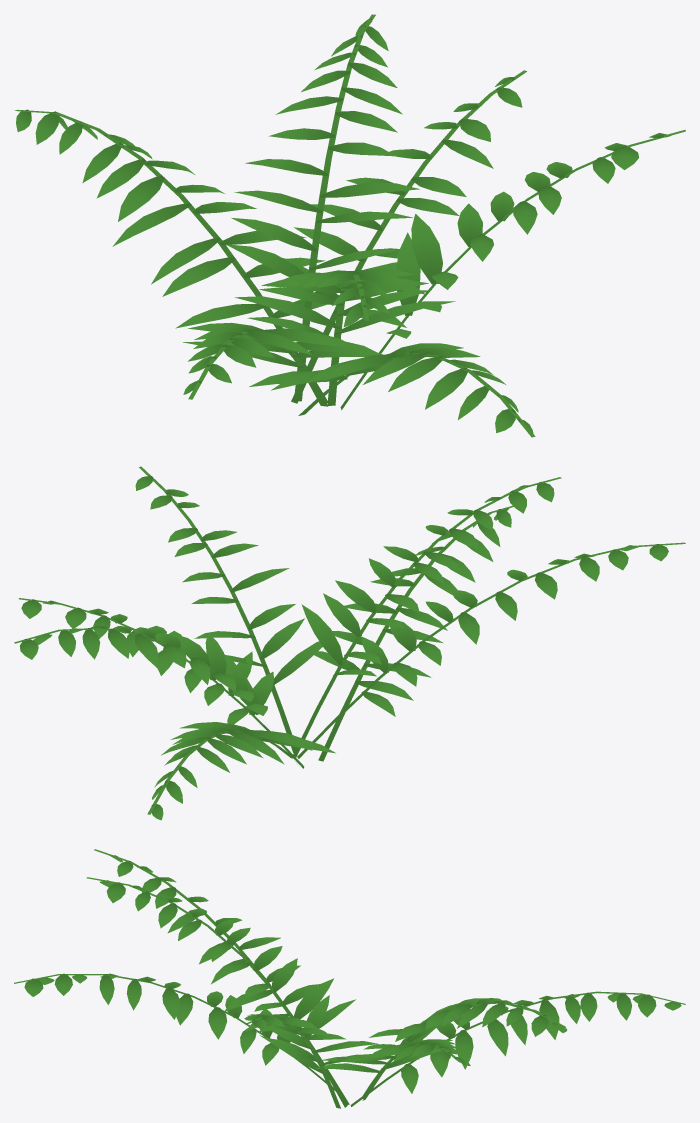
The model's file is fern1.gltf.
3 views of the same model, one above another, from view 1: azimuth 30°, elevation 25°; view 2: azimuth 150°, elevation 25°; view 3: azimuth 270°, elevation 25° (orthographic). The views are drawn at different scales.
Parts seen in each view (by area): view 1: fern1_leaf_LOD0, fern1_stalk_LOD0; view 2: fern1_leaf_LOD0, fern1_stalk_LOD0; view 3: fern1_leaf_LOD0, fern1_stalk_LOD0.
Part boxes in pixels (x1=…): fern1_leaf_LOD0: x1=16, y1=18, x2=670, y2=433; fern1_stalk_LOD0: x1=14, y1=14, x2=685, y2=437; fern1_leaf_LOD0: x1=20, y1=476, x2=668, y2=820; fern1_stalk_LOD0: x1=14, y1=466, x2=685, y2=814; fern1_leaf_LOD0: x1=24, y1=855, x2=681, y2=1093; fern1_stalk_LOD0: x1=14, y1=849, x2=685, y2=1108.
Size of what is drawn, in the model's own units: 1.22 by 0.5097 by 1.74.
